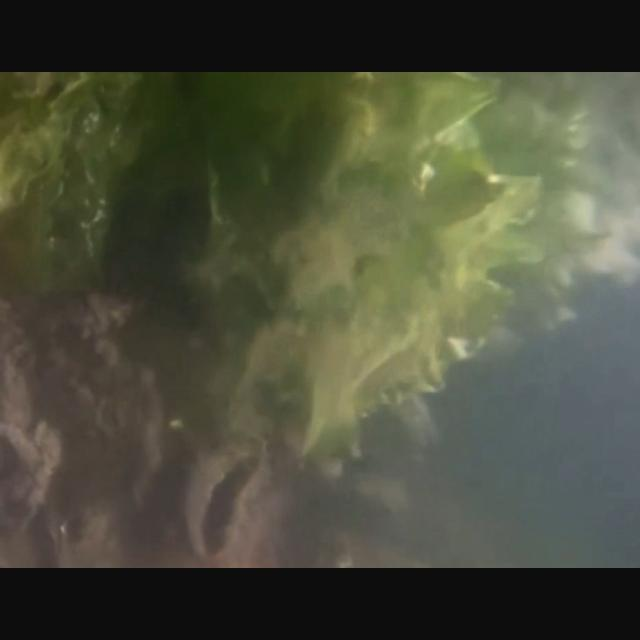Oyster-Open: (182, 434, 270, 558)
